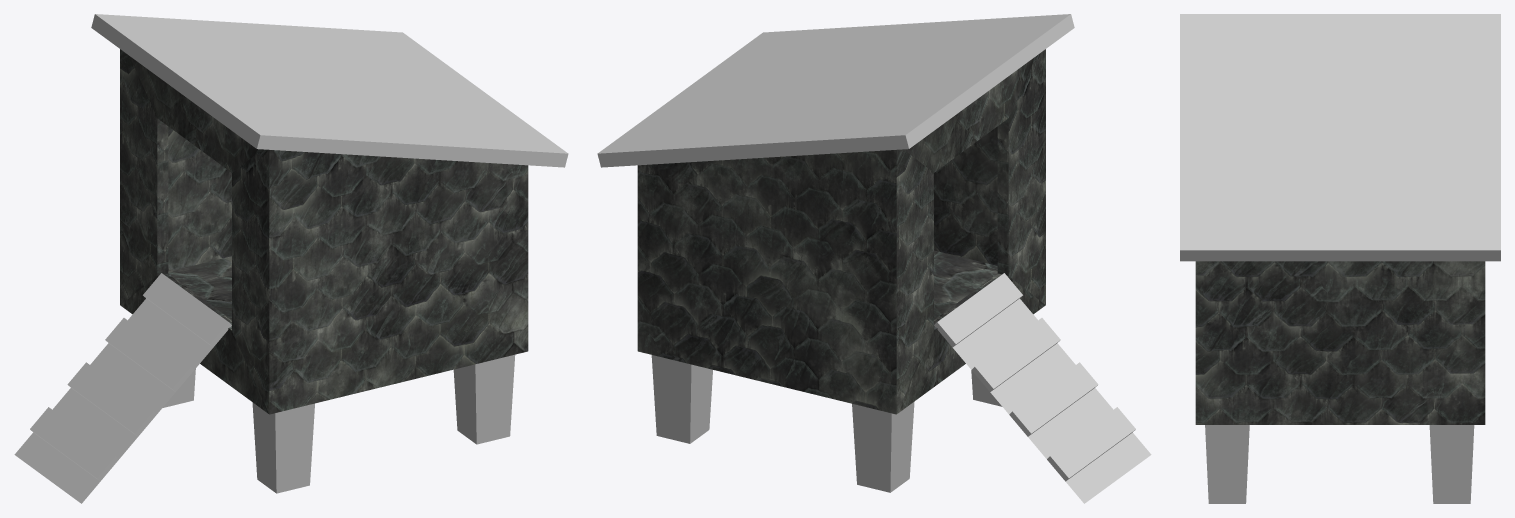
Rendered from KanaKotiF.fbx.
3 views of the same model, side by side, from view 1: azimuth 30°, elevation 25°; view 2: azimuth 150°, elevation 25°; view 3: azimuth 270°, elevation 25° (orthographic). The views are drawn at different scales.
Visible parts, largest first — view 1: KanaKoti; view 2: KanaKoti; view 3: KanaKoti.
Part boxes in pixels (box(x1,y1,x2,y2)): KanaKoti: box(14, 14, 568, 503); KanaKoti: box(597, 14, 1151, 503); KanaKoti: box(1180, 14, 1500, 503).
Size of the model in its own units: 8.46 by 6.95 by 5.54.
